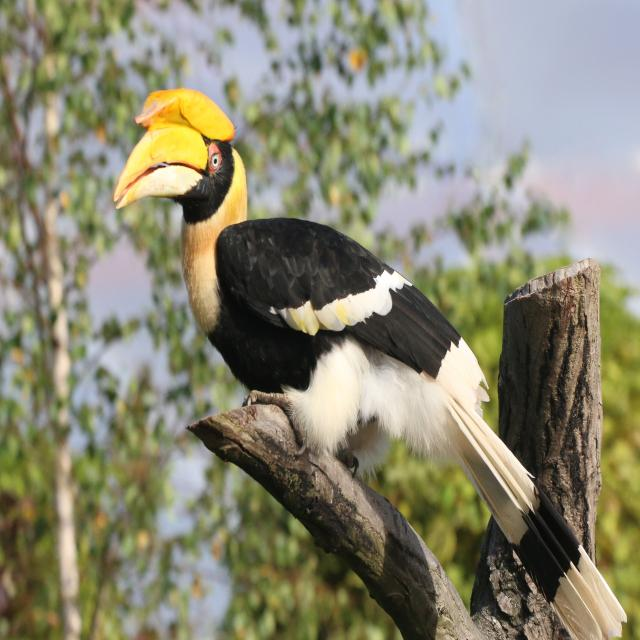Hornbill: (111, 79, 620, 640)
